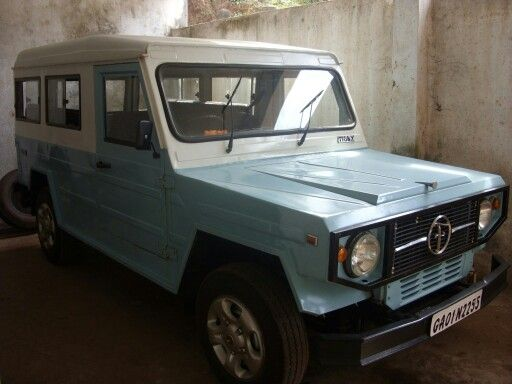Vehicle: (11, 28, 512, 383)
